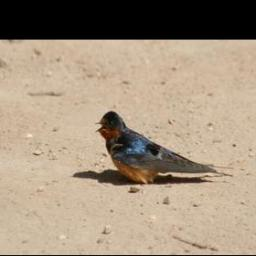Swallow: (95, 109, 233, 182)
